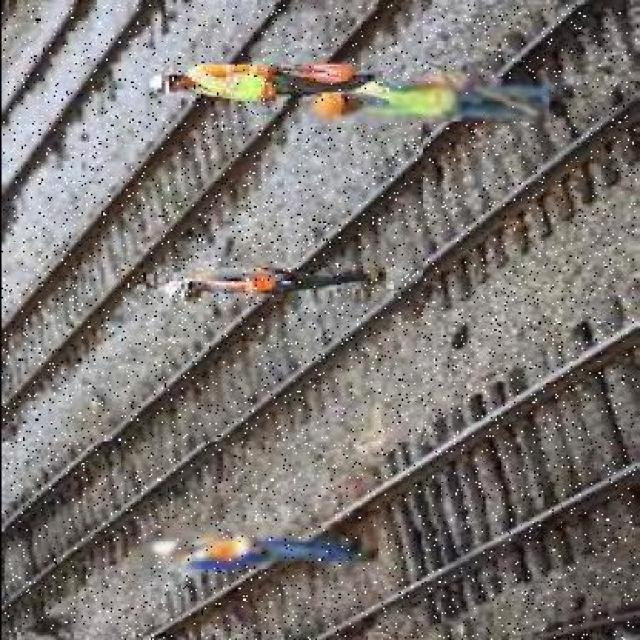danger: (132, 524, 377, 570), (303, 78, 548, 120), (146, 64, 388, 104), (136, 268, 396, 296)
rail: (4, 5, 637, 632), (0, 6, 421, 440), (120, 291, 626, 640)
